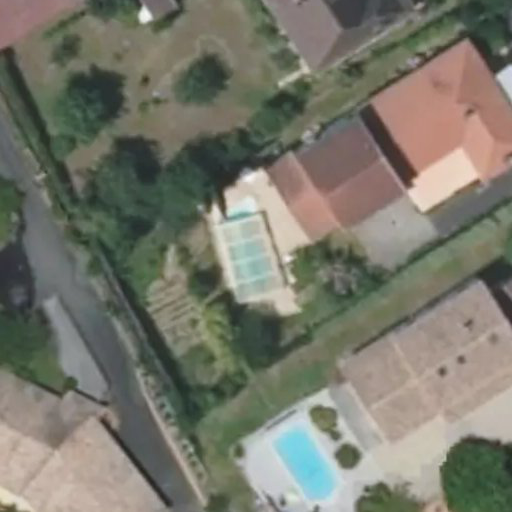pool: (225, 203, 286, 280)
